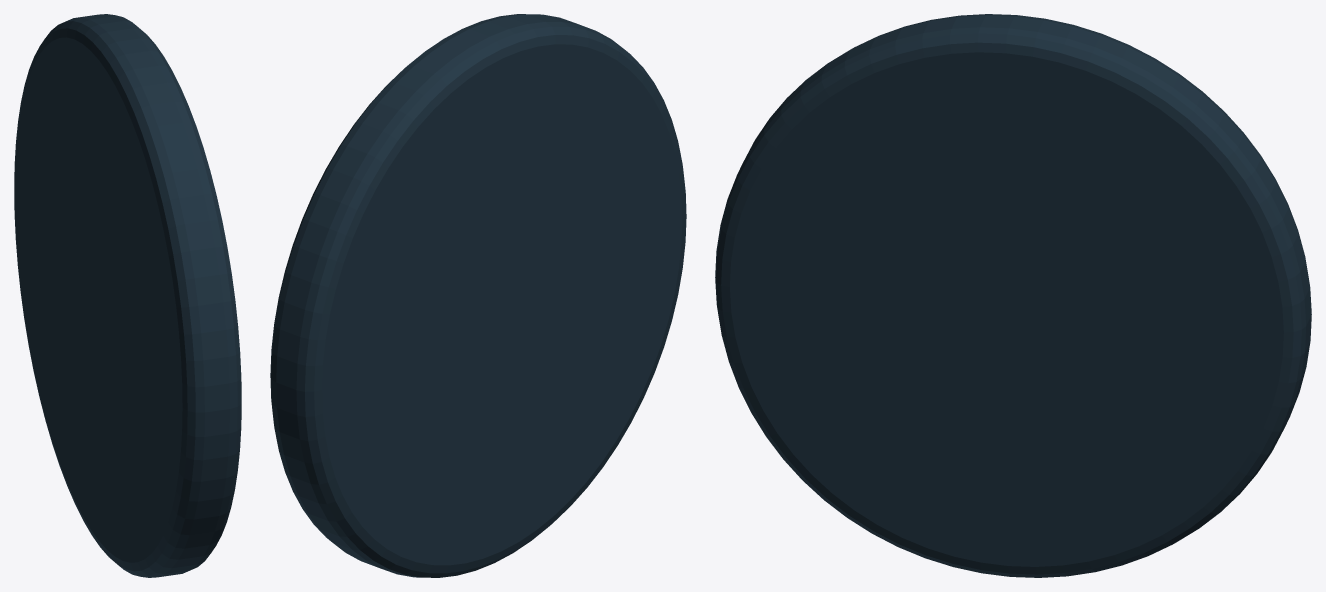
File: SM_HC_BeatSpeaker_18.fbx
The picture shows the model from 3 angles, left to right: view 1: azimuth 30°, elevation 25°; view 2: azimuth 150°, elevation 25°; view 3: azimuth 270°, elevation 25°; orthographic projection. The views are drawn at different scales.
Parts seen in each view (by area): view 1: SM_HC_BeatSpeaker_18; view 2: SM_HC_BeatSpeaker_18; view 3: SM_HC_BeatSpeaker_18.
Part boxes in pixels (left/top/right/bottom): SM_HC_BeatSpeaker_18: left=14, top=14, right=241, bottom=577; SM_HC_BeatSpeaker_18: left=270, top=14, right=686, bottom=577; SM_HC_BeatSpeaker_18: left=715, top=14, right=1311, bottom=577.
Size of the model in its own units: 37.74 by 127 by 128.
